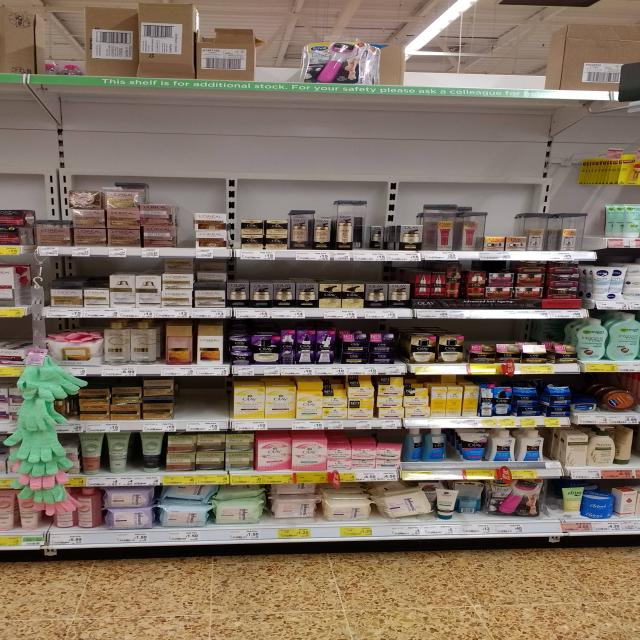empty: (172, 377, 233, 427)
